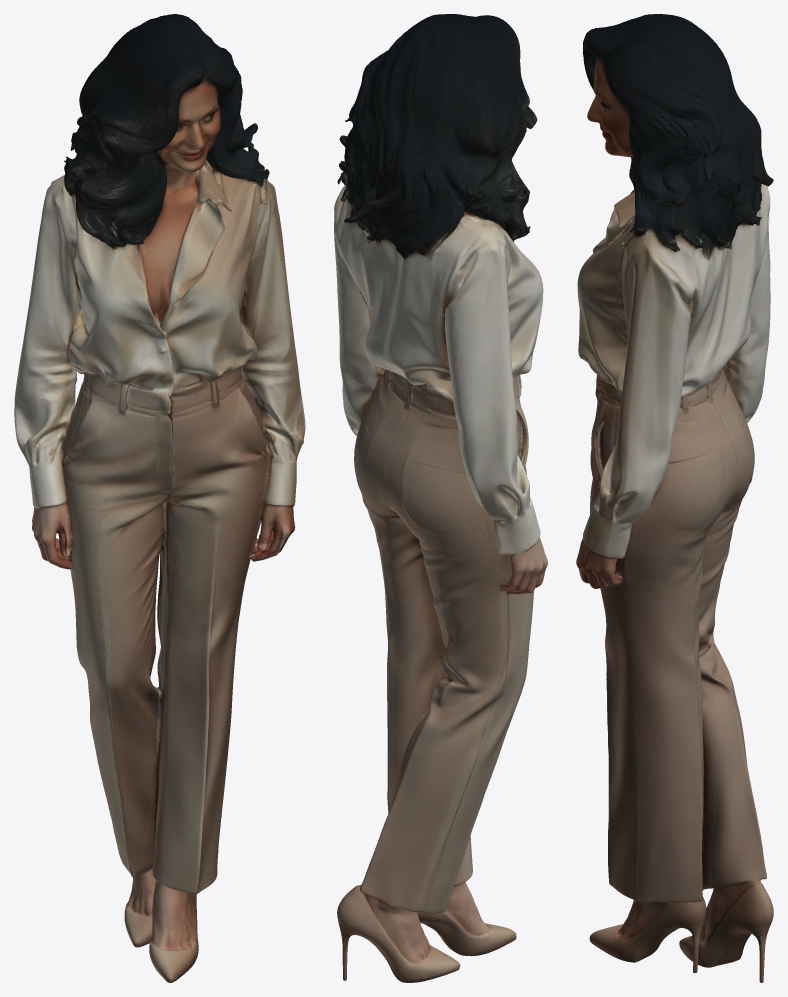
File: person-sophia.glb
The picture shows the model from 3 angles, left to right: view 1: azimuth 30°, elevation 25°; view 2: azimuth 150°, elevation 25°; view 3: azimuth 270°, elevation 25°; orthographic projection.
Bounding box in the file's own units: 0.494 × 1.9 × 0.362.
Materials: 1 (1 with a texture image).
